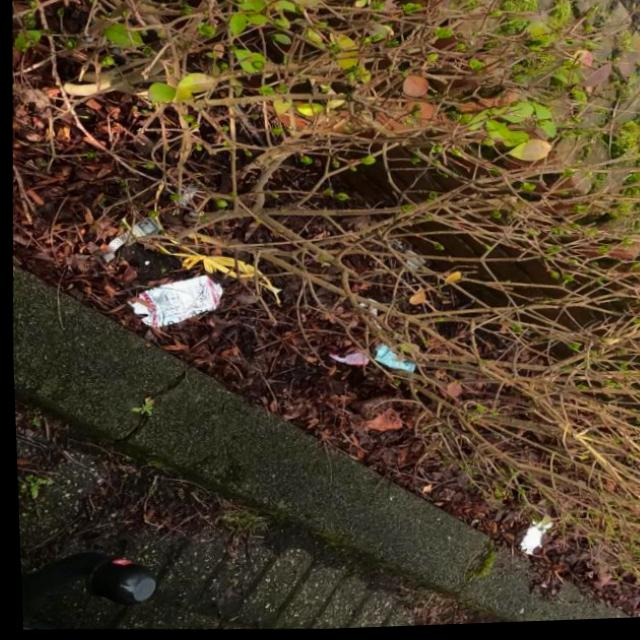Can-Metal: (127, 268, 227, 336)
Mask: (362, 352, 421, 375)
